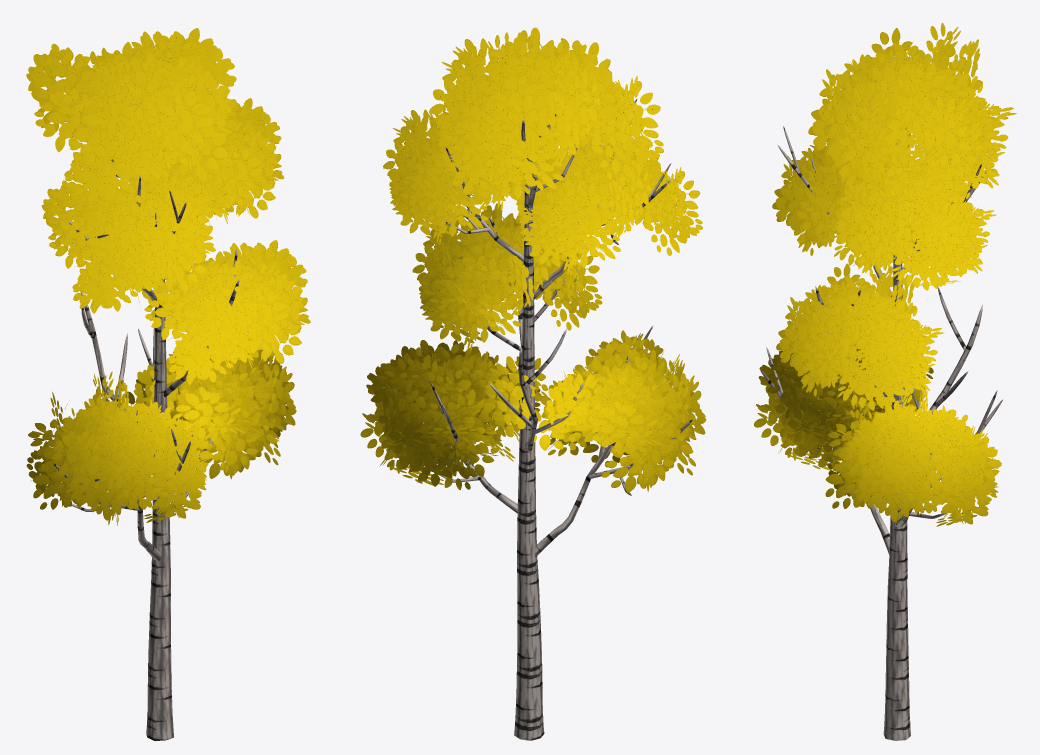
Rendered from BirchTree_2.gltf.
3 renders of one model, left to right at view 1: azimuth 30°, elevation 25°; view 2: azimuth 150°, elevation 25°; view 3: azimuth 270°, elevation 25°, orthographic. The views are drawn at different scales.
Visible parts, largest first — view 1: BirchTree_2; view 2: BirchTree_2; view 3: BirchTree_2.
Part boxes in pixels (x1,y1,x2,y2): BirchTree_2: (26,28,310,740); BirchTree_2: (360,27,706,740); BirchTree_2: (754,22,1016,740).
Size of the model in its own units: 3.35 by 7.57 by 2.81.
Materials: 2 (2 with a texture image).
